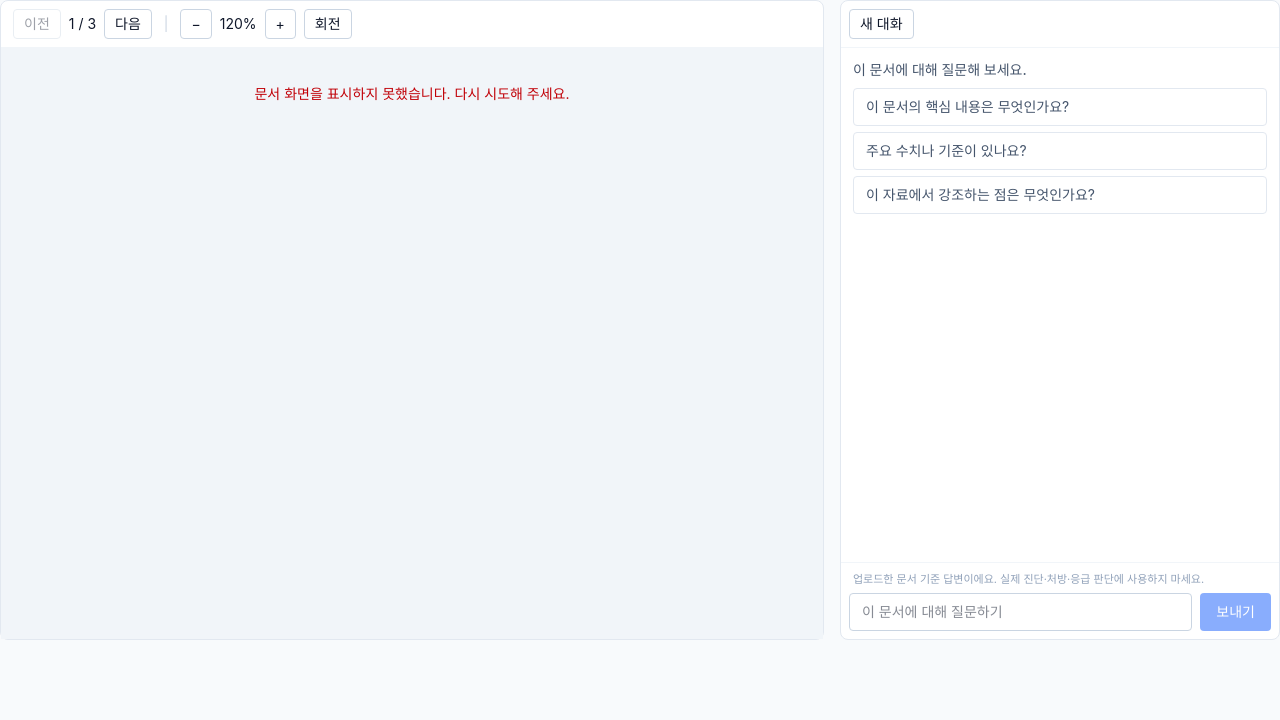
Test: DocumentQa › 스트리밍으로 진행 중 검증된 주장을 점진적으로 보여준다
Expected: the text "이 문서에 대해 질문해 보세요." is shown, [853,61,1027,78]
In the field named "질문 입력": [1021, 612] box [849,593,1192,631], type "심장은 무엇을 하나요?"
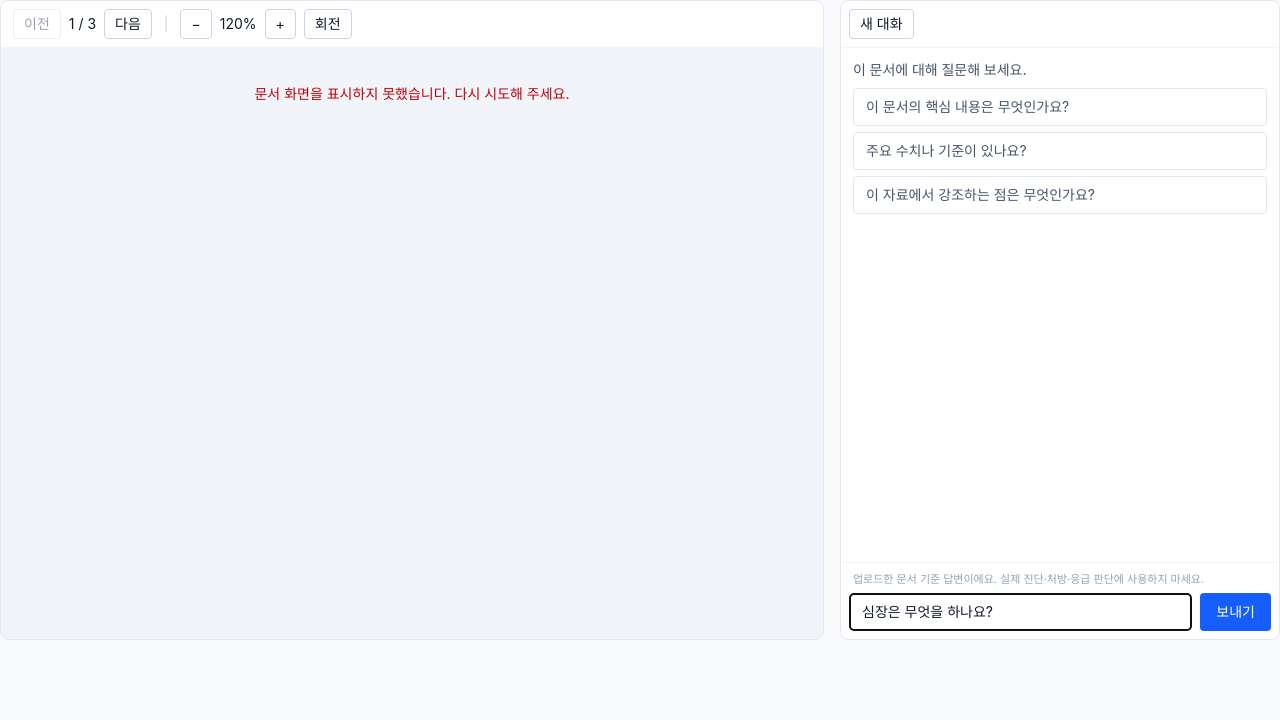
Click the button "보내기": [1236, 612] box [1200,593,1271,631]
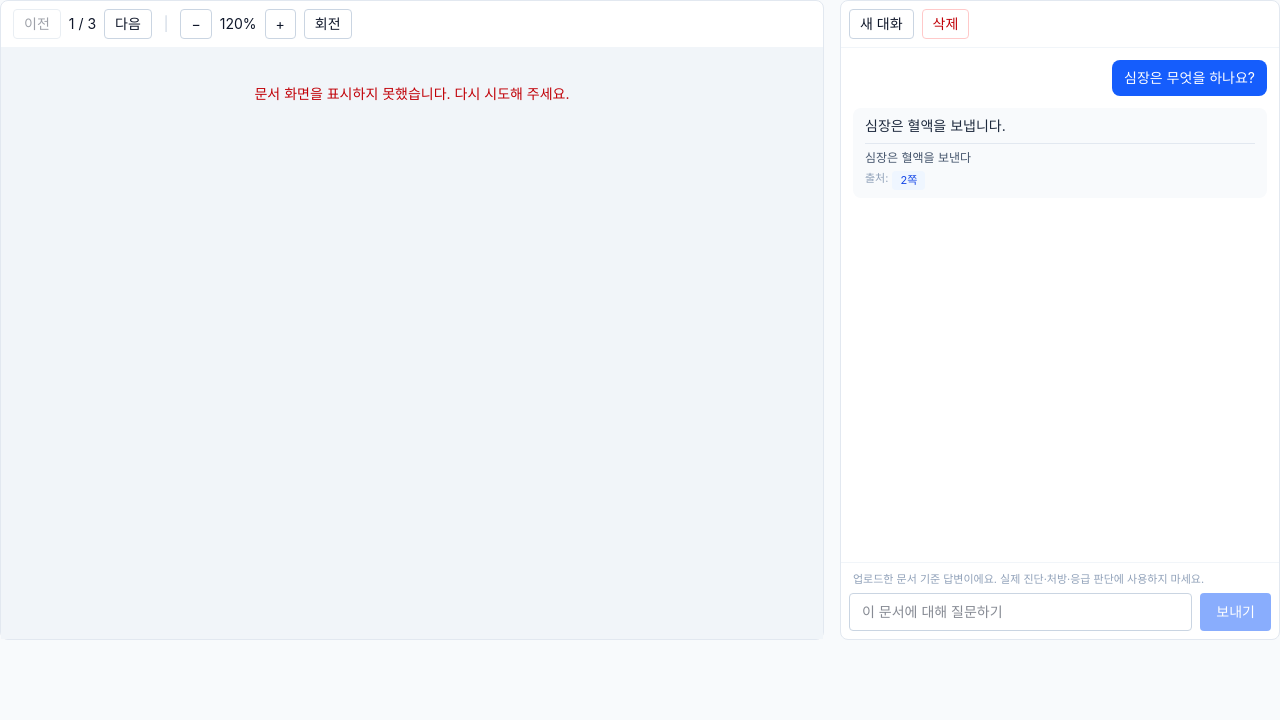
Now the text "심장은 혈액을 보냅니다." is shown, box [865,117,1006,134]
Now the button "2쪽" is shown, box [892,171,925,190]
